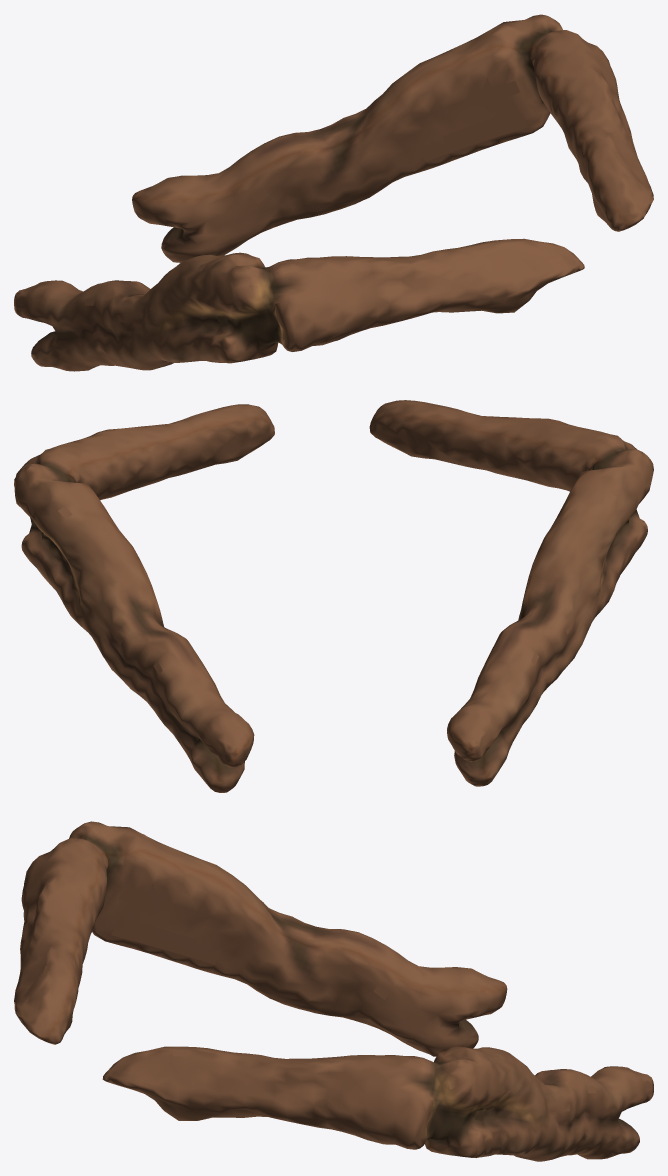
Rendered from sculpture_03.glb.
3 renders of one model, top to bottom at view 1: azimuth 30°, elevation 25°; view 2: azimuth 150°, elevation 25°; view 3: azimuth 270°, elevation 25°, orthographic. The views are drawn at different scales.
Parts seen in each view (by area): view 1: SCL_02_02; view 2: SCL_02_02; view 3: SCL_02_02.
Part boxes in pixels (<box>): SCL_02_02: <box>14,14,653,371</box>; SCL_02_02: <box>14,400,653,792</box>; SCL_02_02: <box>14,821,653,1161</box>.
Bounding box in the file's own units: 0.3039 × 0.1214 × 0.2999.
Materials: 1 (1 with a texture image).
